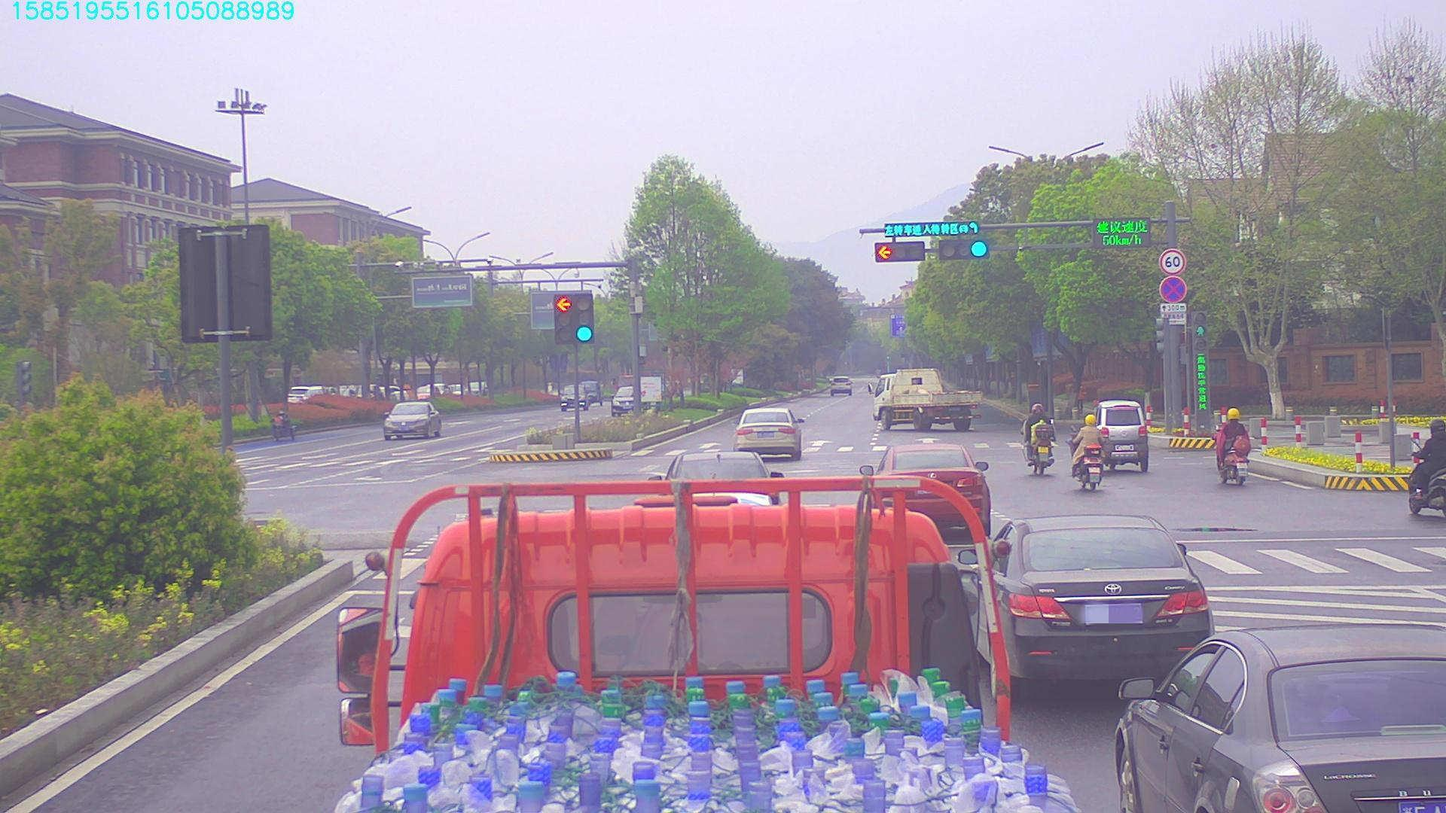green: (941, 244, 990, 257)
red: (875, 238, 923, 262)
wait_on: (889, 221, 981, 235)
